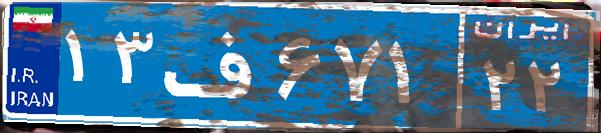1: (385, 28, 445, 110), (57, 26, 110, 107)
2: (475, 38, 525, 113), (525, 38, 570, 115)
3: (110, 28, 158, 105)
6: (273, 28, 330, 110)
7: (330, 28, 385, 110)
ف: (158, 15, 273, 115)
